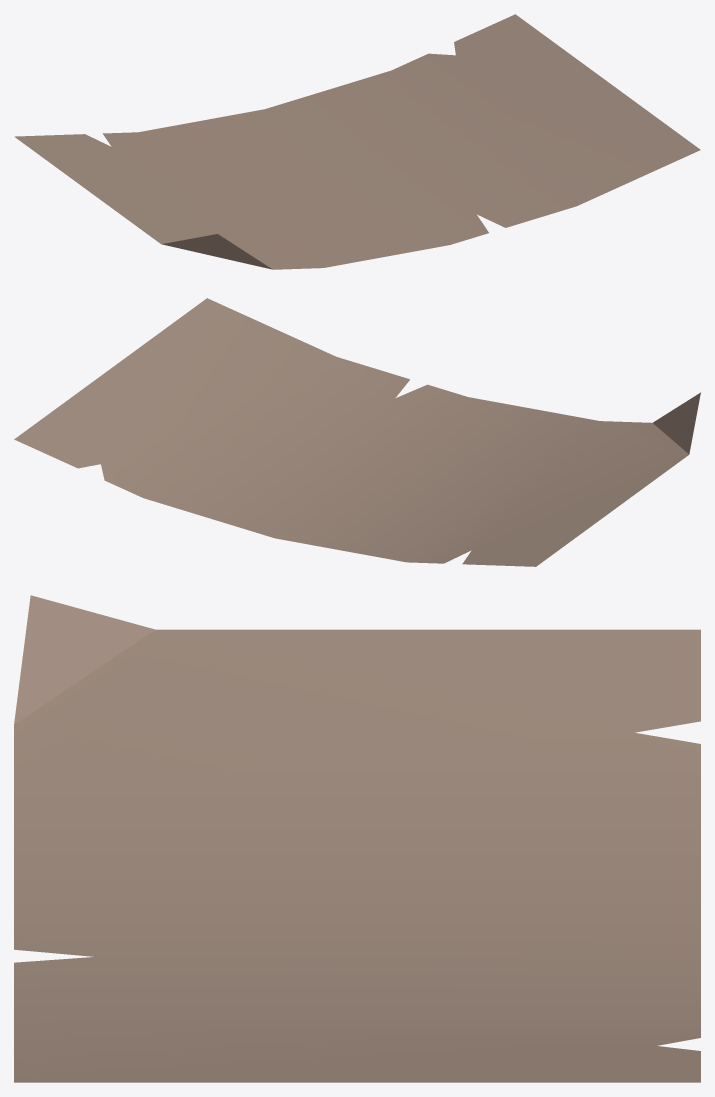
The model's file is smuggled note.fbx.
3 renders of one model, top to bottom at view 1: azimuth 30°, elevation 25°; view 2: azimuth 150°, elevation 25°; view 3: azimuth 270°, elevation 25°, orthographic. The views are drawn at different scales.
Visible parts, largest first — view 1: smuggled note; view 2: smuggled note; view 3: smuggled note.
Boxes of the visible parts, x1,y1,x2,y2 form: smuggled note: (14, 14, 700, 269); smuggled note: (14, 298, 700, 566); smuggled note: (14, 595, 700, 1082).
Size of the model in its own units: 0.364 by 0.0441 by 0.2333.
